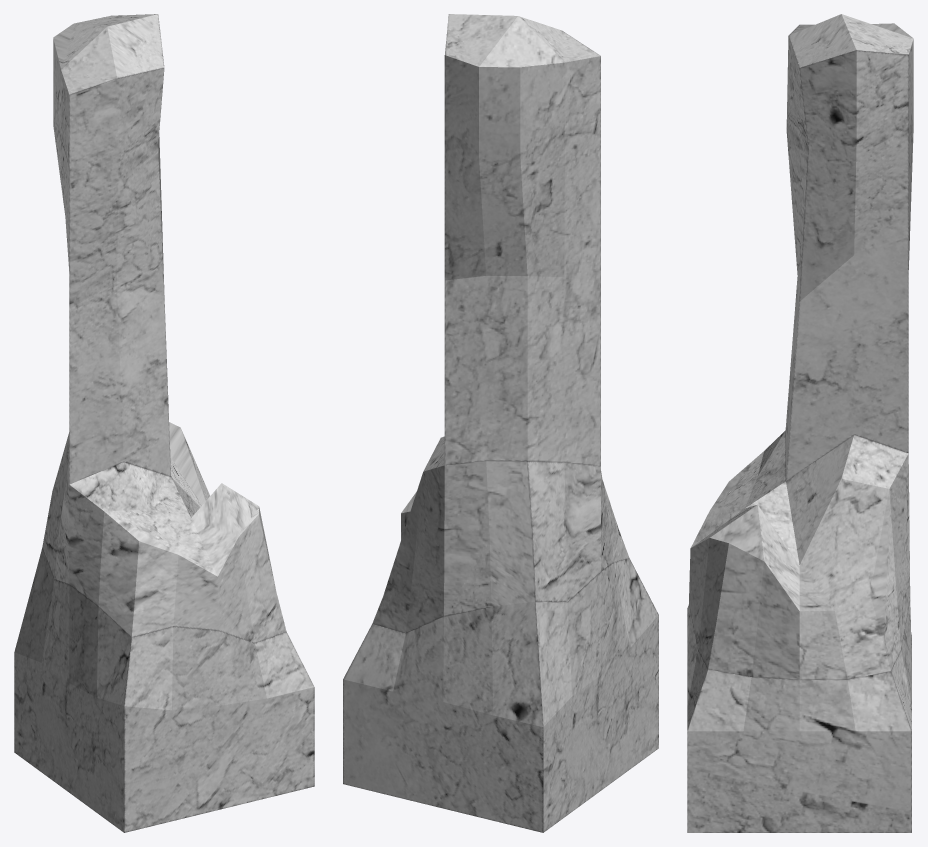
File: col6.fbx
3 renders of one model, left to right at view 1: azimuth 30°, elevation 25°; view 2: azimuth 150°, elevation 25°; view 3: azimuth 270°, elevation 25°, orthographic. The views are drawn at different scales.
Parts seen in each view (by area): view 1: pCube12; view 2: pCube12; view 3: pCube12.
Part boxes in pixels (box(x1,y1,x2,y2)): pCube12: box(14, 14, 314, 832); pCube12: box(343, 14, 658, 832); pCube12: box(687, 14, 913, 832).
Bounding box in the file's own units: 37.35 × 138 × 37.66.
1 material, 1 textured.
